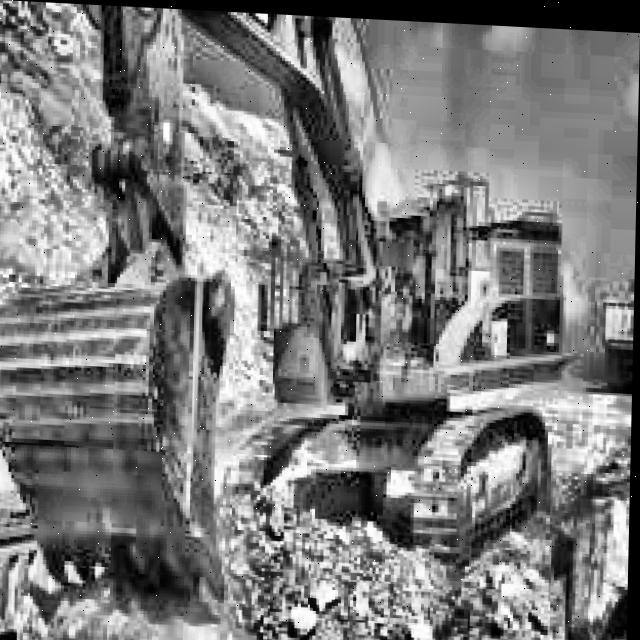dump_truck: (600, 259, 636, 386)
excavator: (0, 0, 566, 640)
